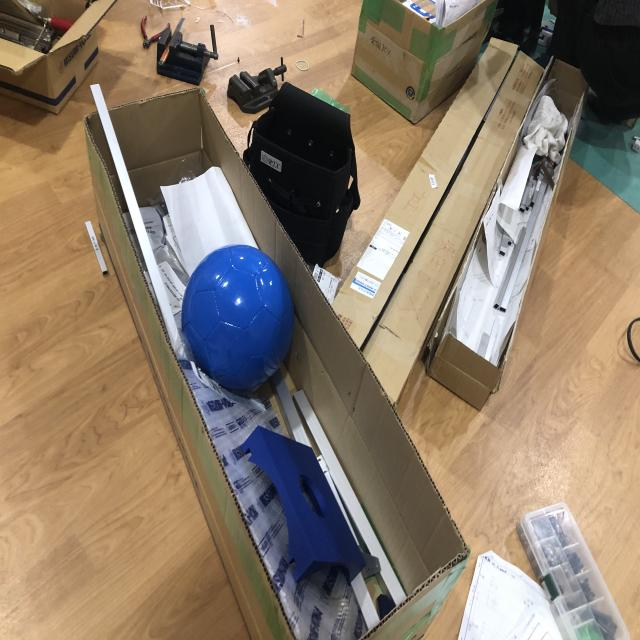blue_ball: (181, 240, 295, 396)
